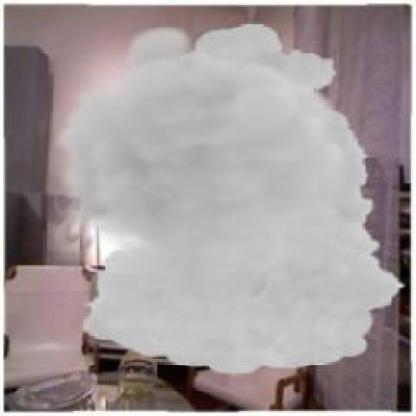Smoke: (54, 22, 407, 375)
